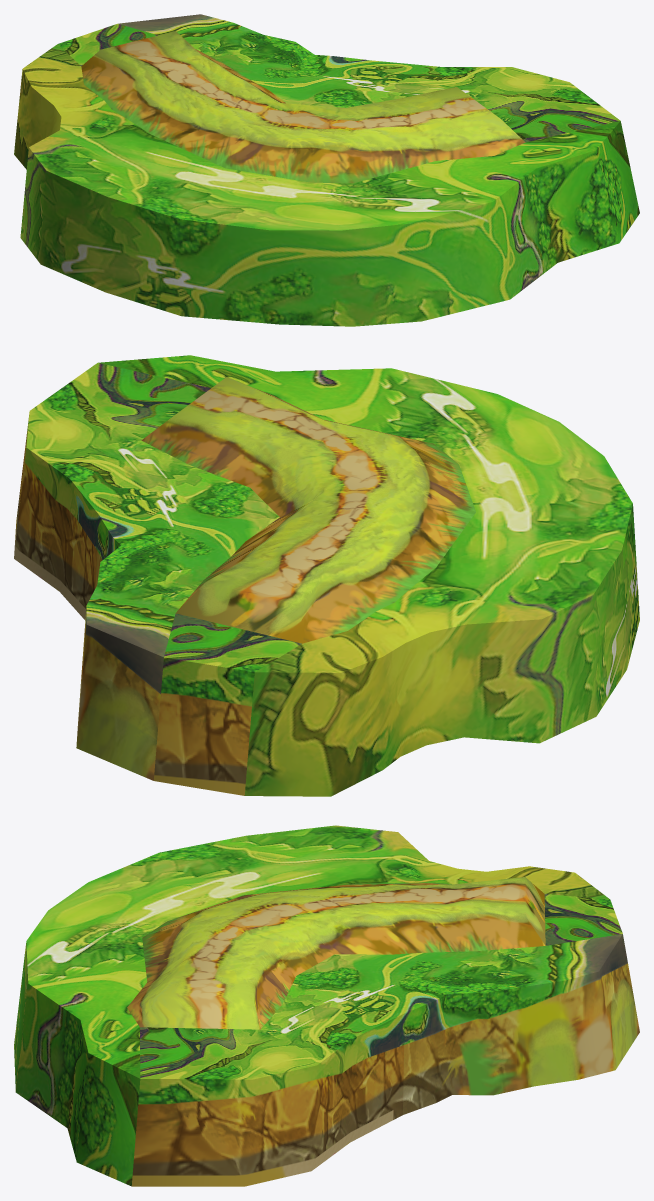
The model's file is map_plain_road14.FBX.
3 views of the same model, one above another, from view 1: azimuth 30°, elevation 25°; view 2: azimuth 150°, elevation 25°; view 3: azimuth 270°, elevation 25° (orthographic). The views are drawn at different scales.
Visible parts, largest first — view 1: map_plain_road14; view 2: map_plain_road14; view 3: map_plain_road14.
Boxes of the visible parts, bbox=[...] form: map_plain_road14: bbox=[14, 14, 639, 326]; map_plain_road14: bbox=[14, 355, 639, 796]; map_plain_road14: bbox=[14, 825, 639, 1186].
Size of the model in its own units: 17.59 by 17.74 by 3.94.
